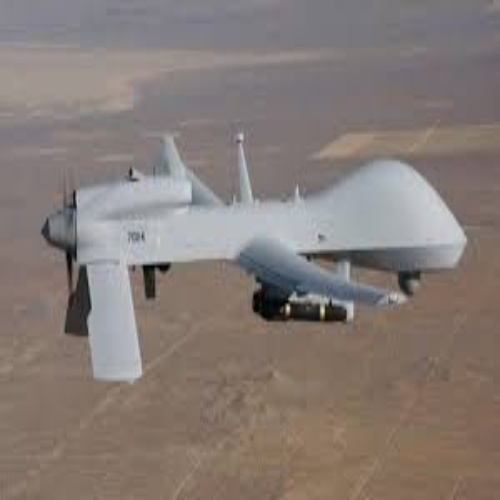uav396: (38, 128, 465, 381)
